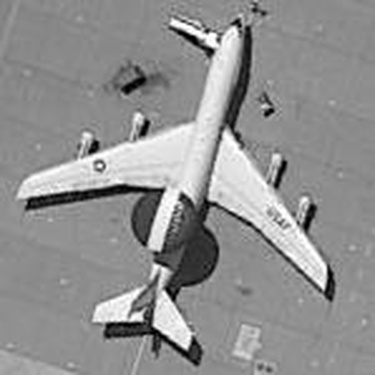airplane: (4, 12, 342, 352)
